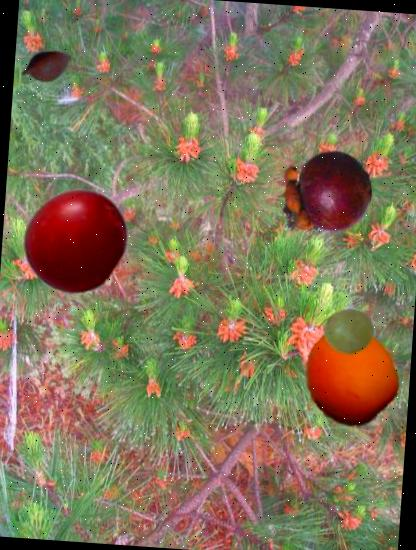Apricot: (296, 322, 403, 430)
Cherry: (17, 182, 132, 297)
Grape: (322, 305, 376, 358)
Mangostan: (277, 143, 375, 241)
Rambutan: (270, 163, 350, 244)
Salak: (18, 38, 75, 95)
